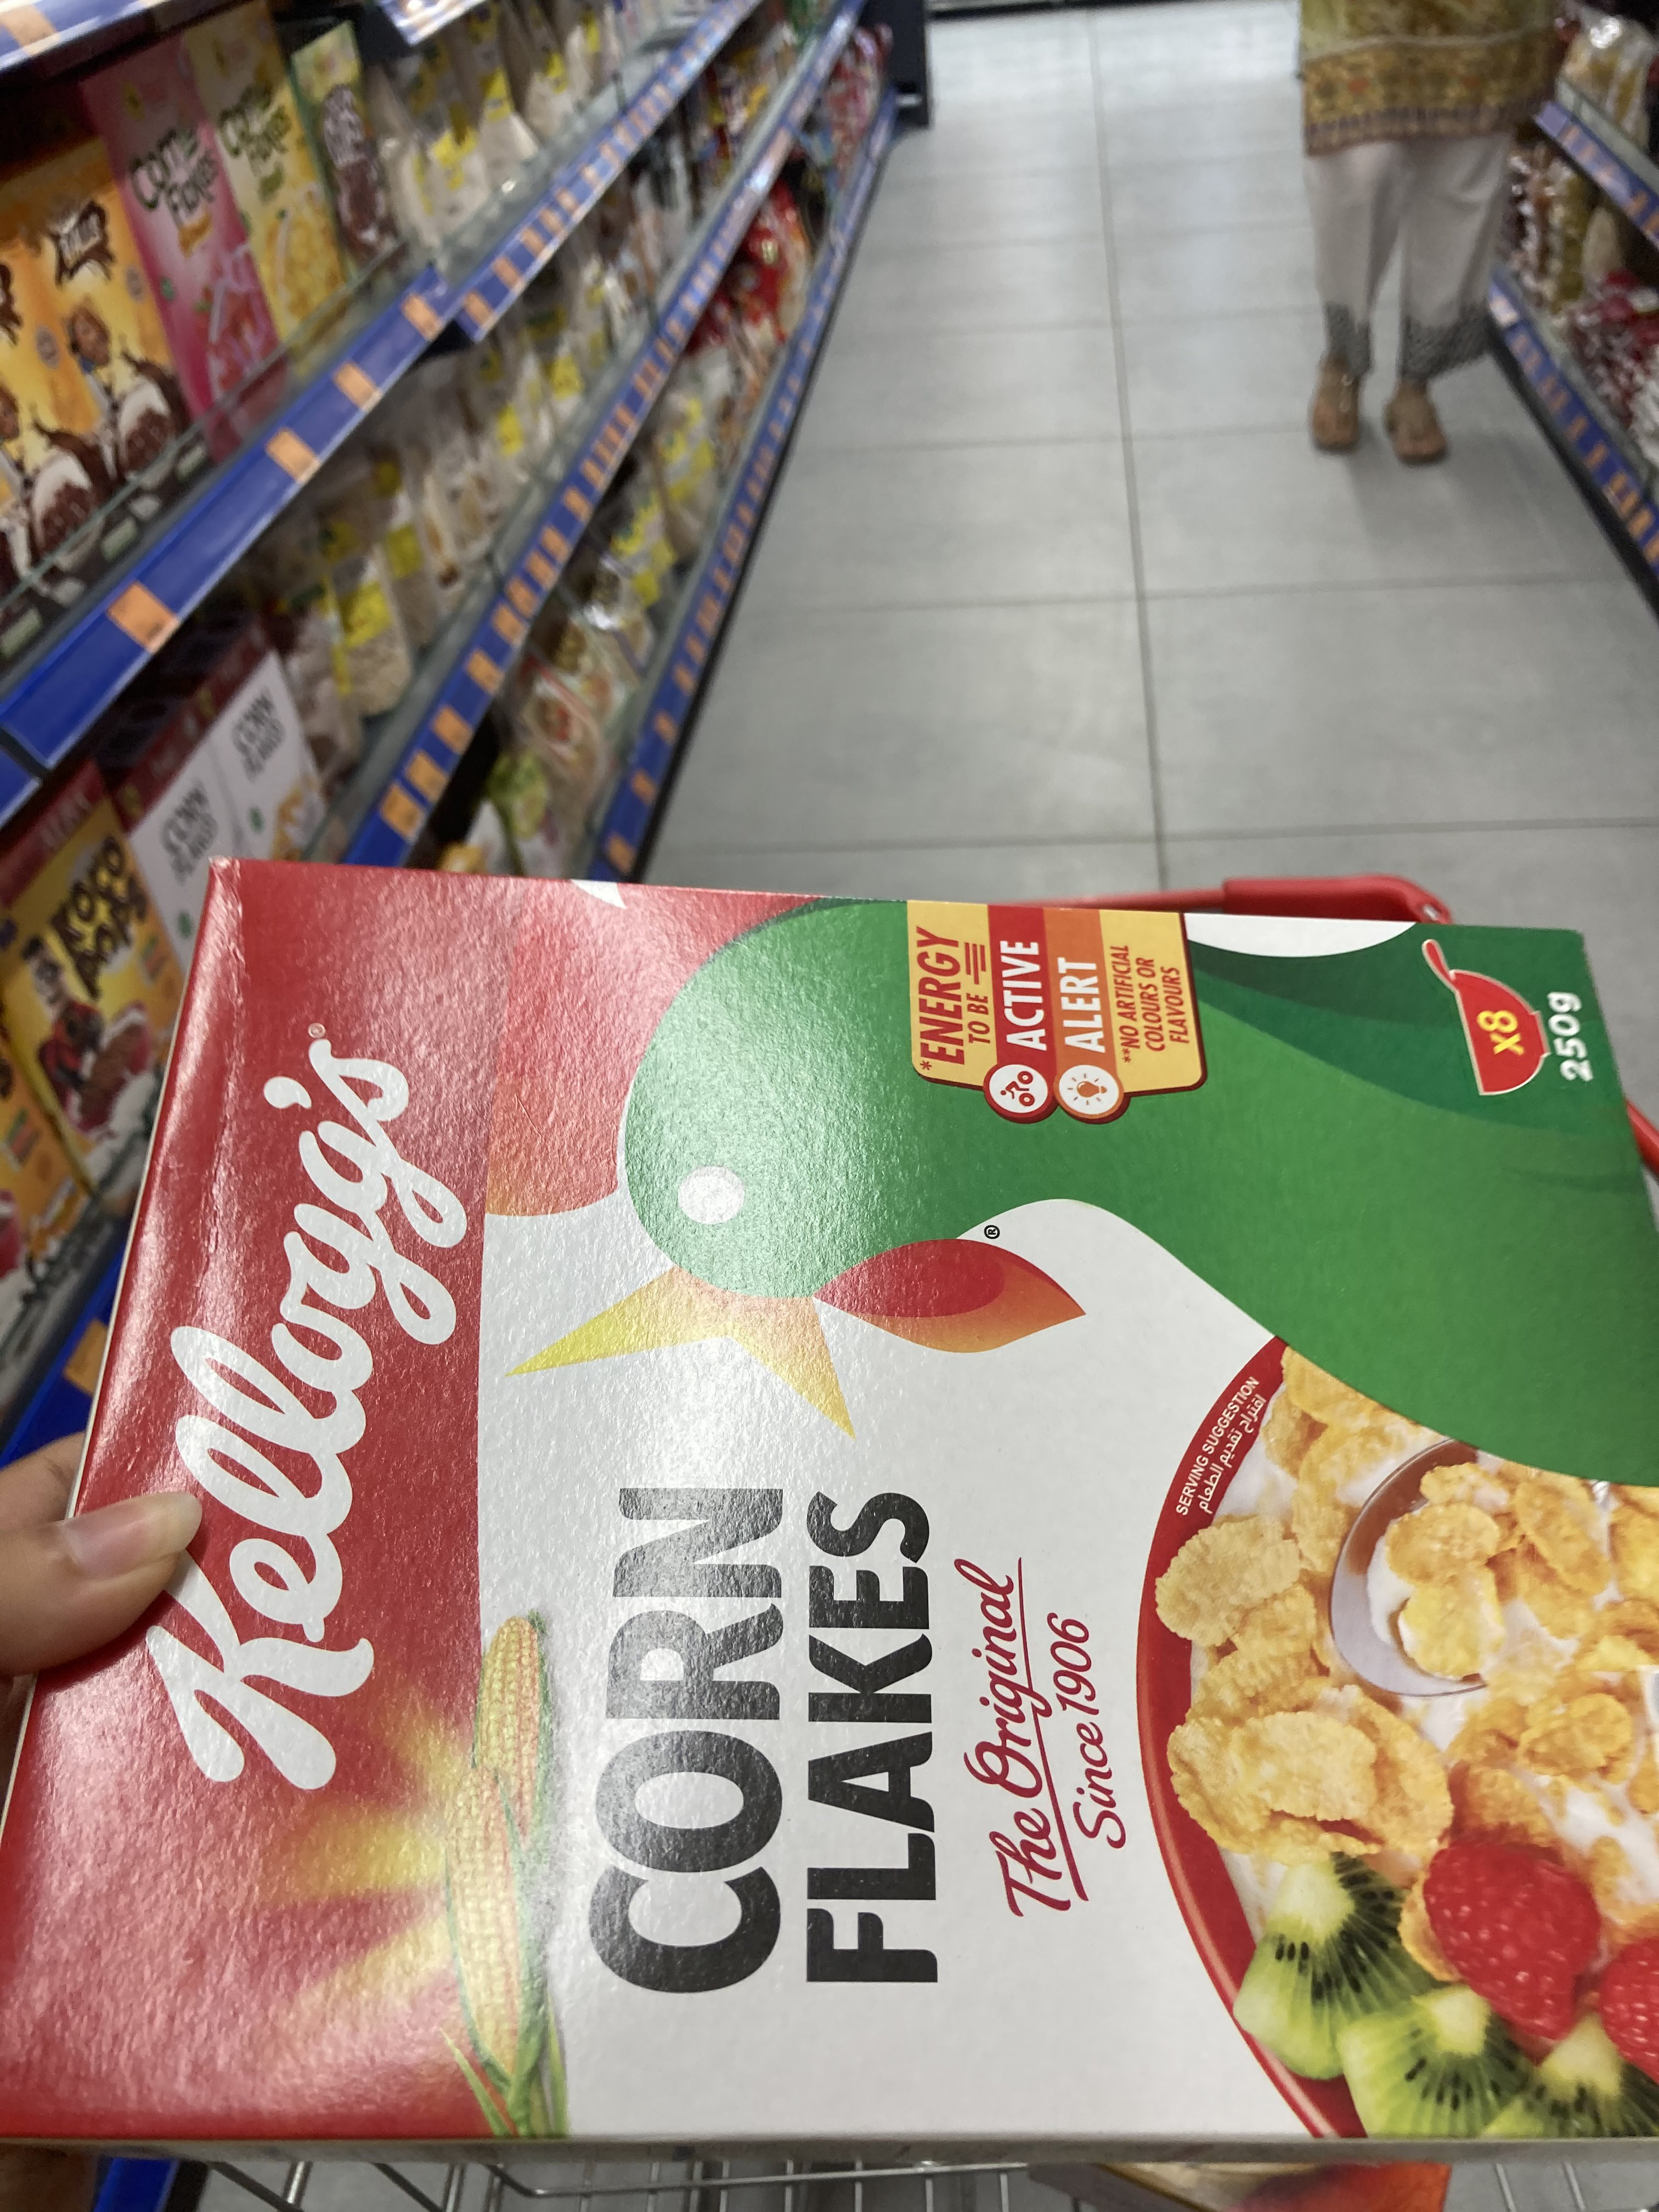Kellogg's Corn Flakes: (2, 855, 1659, 2151)
